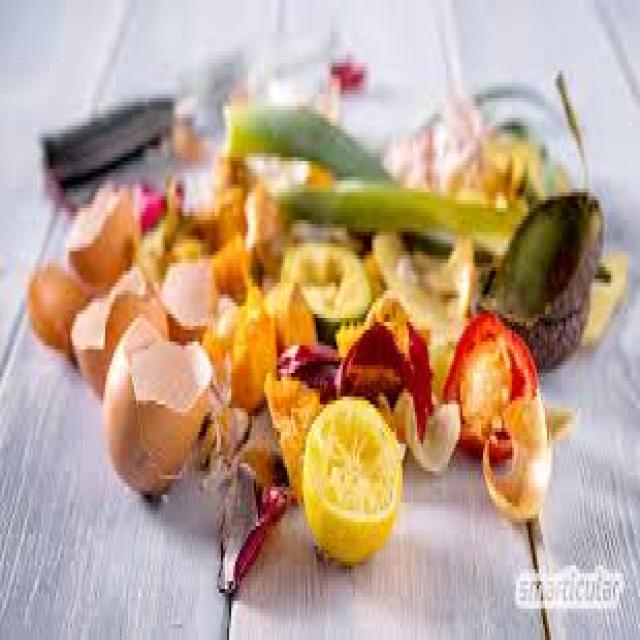food_waste: (22, 60, 630, 598)
